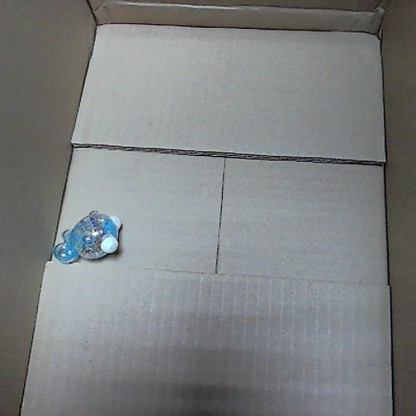bluefish: (52, 209, 122, 263)
